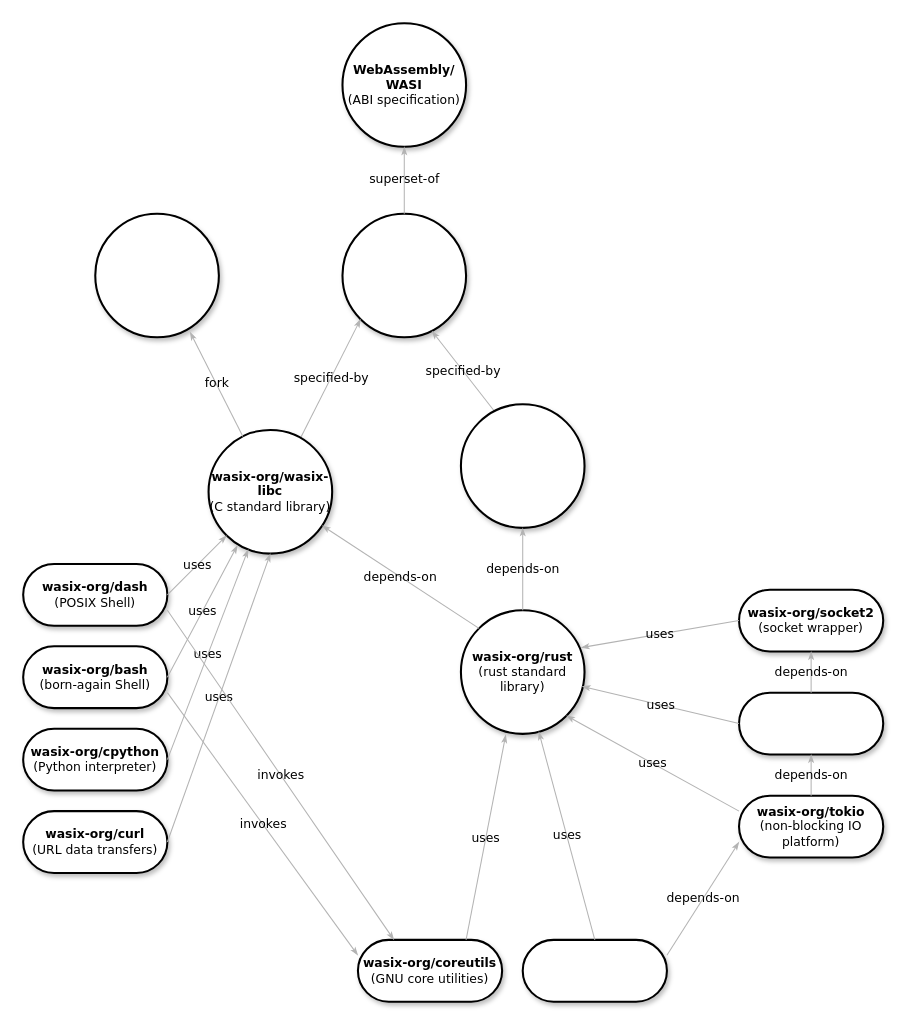
This 907x1027 diagram has some shape labels left out. The centre of each missing label's shape, as x and y in pixels:
wasix-org/mio (non-blocking IO): (x=811, y=724)
wasix-org/static-web-server (async HTTP server): (x=595, y=971)
wasix-org/wasix-abi-rust (ABI crate): (x=523, y=467)
wasix-org/wasix-witx (ABI specification): (x=405, y=276)
WebAssembly/ wasi-libc (C standard library): (x=158, y=276)
